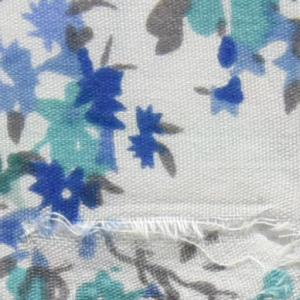Damage: (14, 195, 300, 287)
